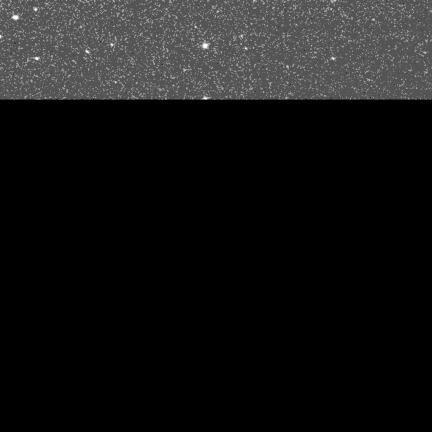blob: (12, 15, 18, 20), (203, 44, 208, 48), (34, 57, 40, 60), (33, 7, 37, 11), (203, 97, 207, 99)
